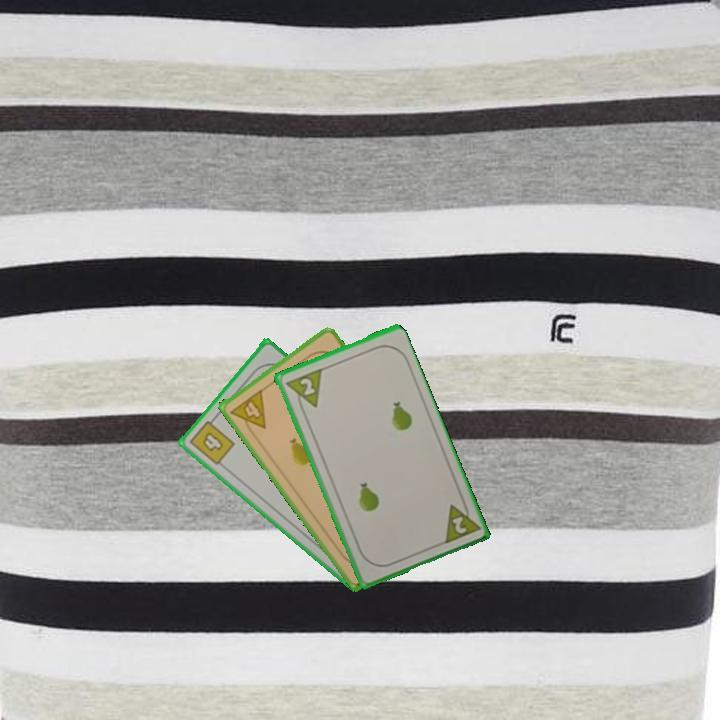2p: (439, 495, 482, 547), (281, 365, 324, 415)
4b: (186, 412, 238, 468)
4p: (227, 386, 269, 439)
